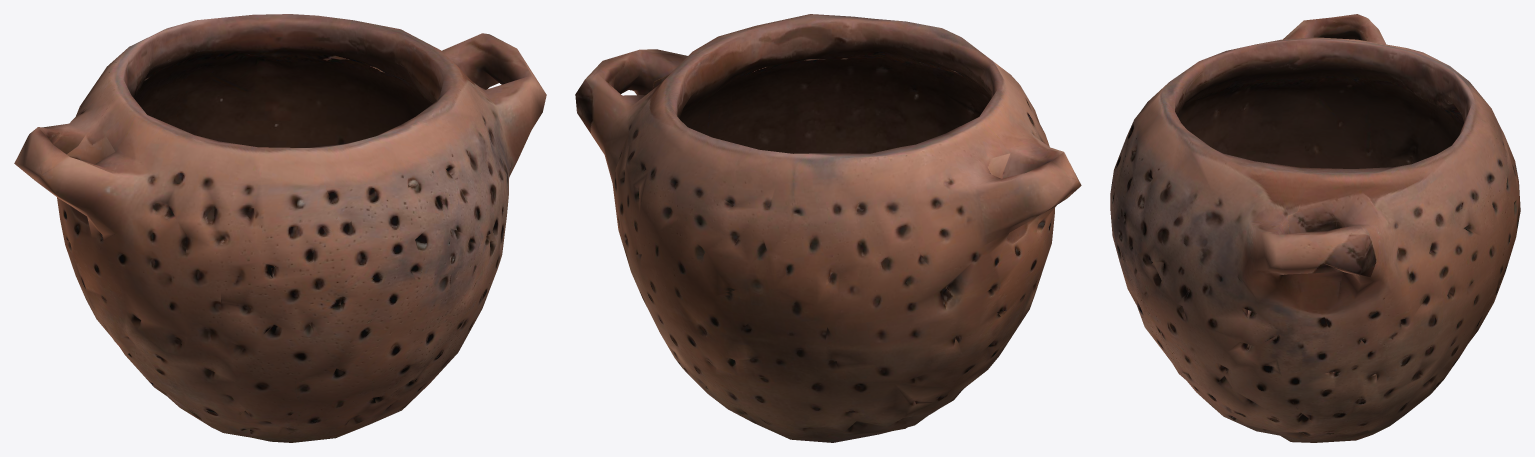
The model's file is pichancha.glb.
The picture shows the model from 3 angles, left to right: view 1: azimuth 30°, elevation 25°; view 2: azimuth 150°, elevation 25°; view 3: azimuth 270°, elevation 25°; orthographic projection. The views are drawn at different scales.
Visible parts, largest first — view 1: Mesh1.0; view 2: Mesh1.0; view 3: Mesh1.0.
Boxes of the visible parts, left/top/right/bottom form: Mesh1.0: left=14, top=14, right=546, bottom=442; Mesh1.0: left=575, top=14, right=1081, bottom=442; Mesh1.0: left=1110, top=14, right=1520, bottom=442.
Bounding box in the file's own units: 0.7743 × 0.5 × 0.6131.
Materials: 1 (1 with a texture image).
